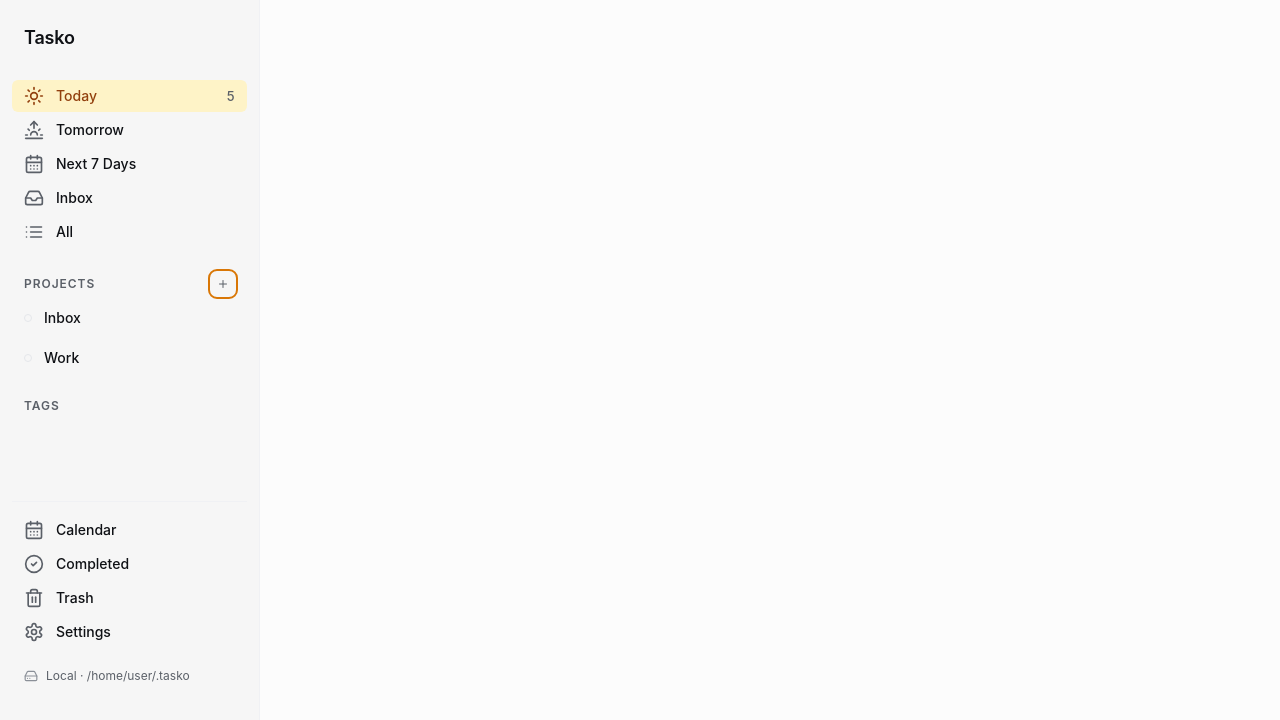
Test case: Sidebar — delete project cascade › clicking Delete opens confirmation with correct title (microcopy §6.9)
Right-click the list item "Work" at (52, 358), box [24,349,79,366]
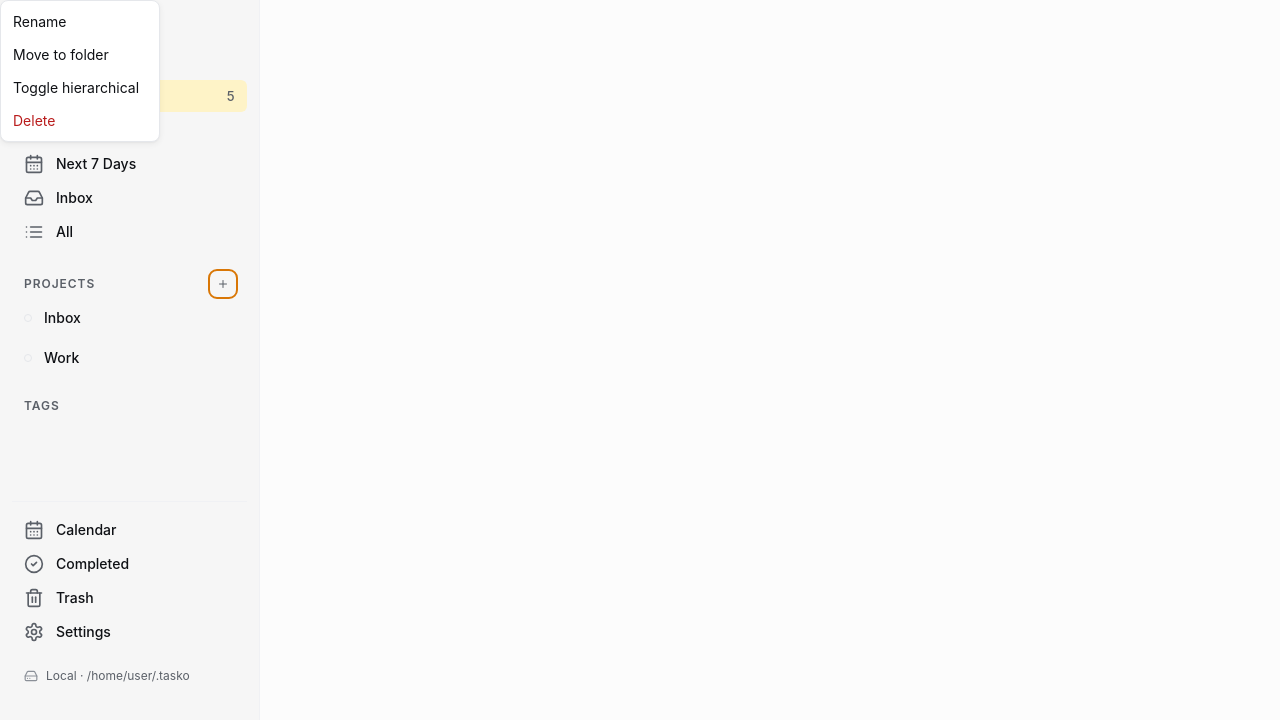
Click the menu item "Delete" at (80, 120), box [1,104,159,137]
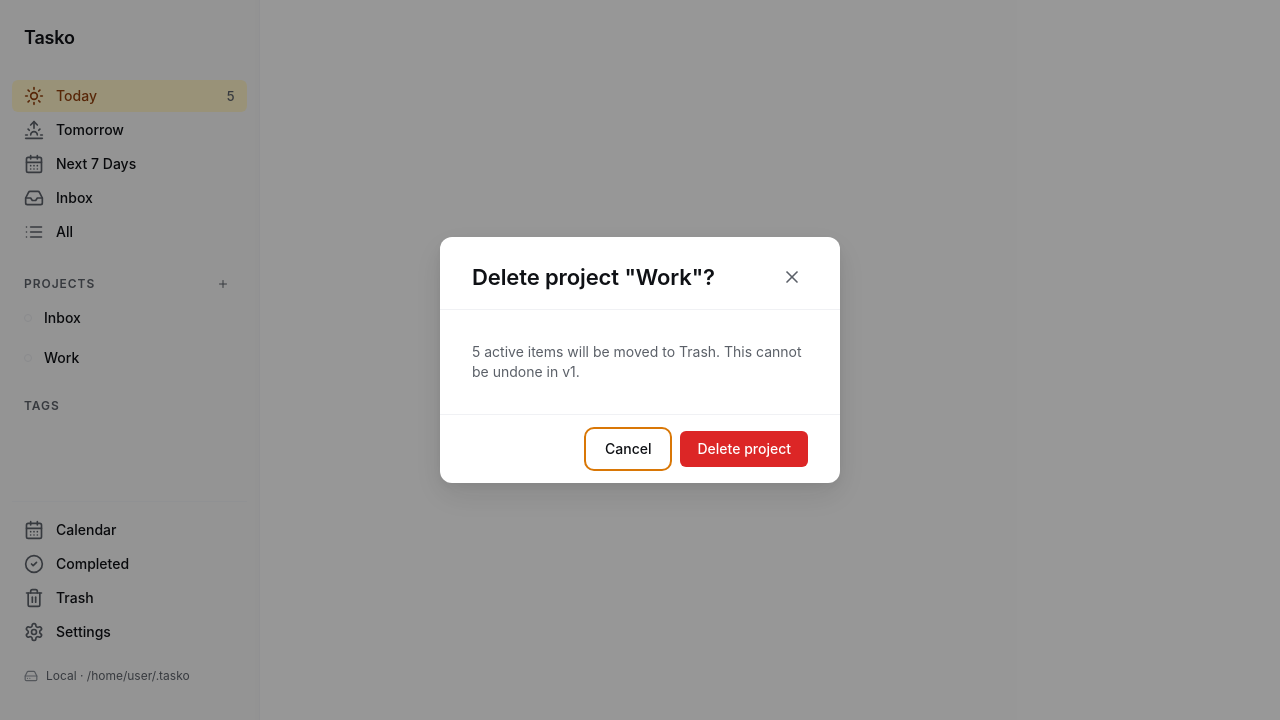
Check: the heading "Delete project \"Work\"?" is shown, box [472,262,715,292]
